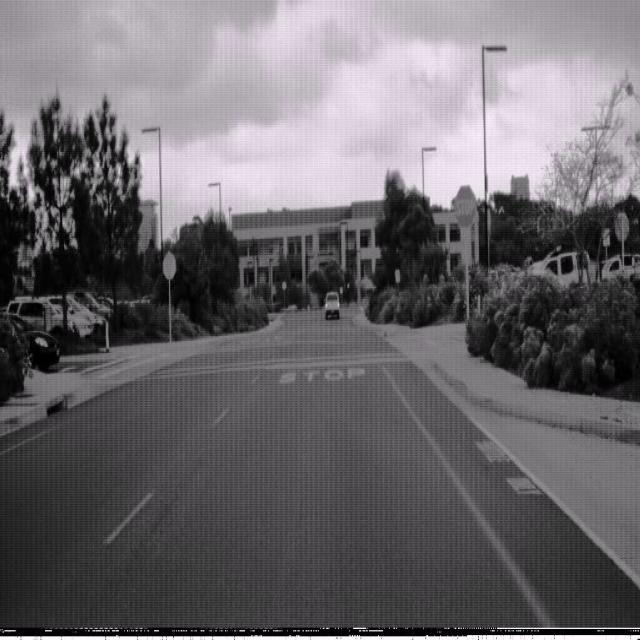stop: (454, 184, 477, 230)
